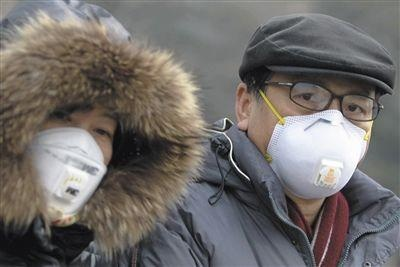correctlyWear: (233, 72, 384, 201), (24, 102, 115, 222)
